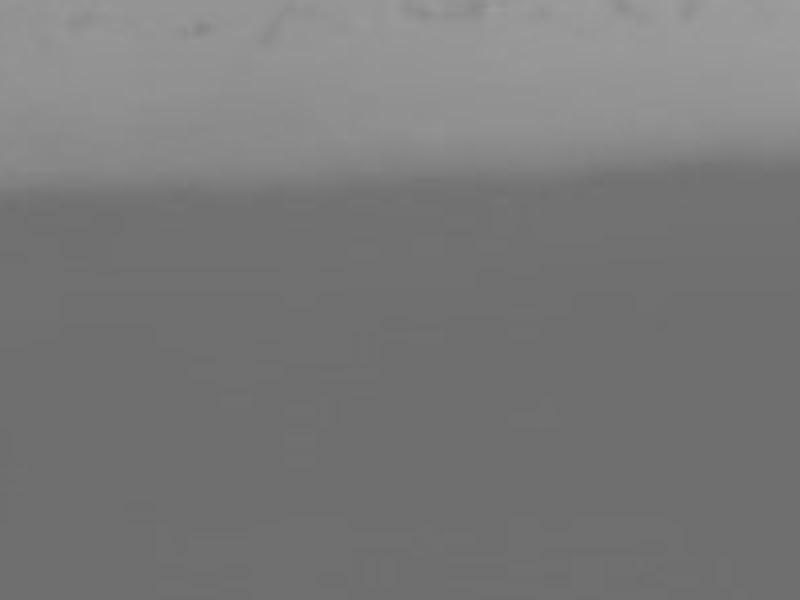defect: (65, 1, 116, 31), (611, 1, 656, 30), (261, 2, 284, 51), (437, 2, 494, 20), (177, 17, 214, 40), (522, 1, 560, 17), (401, 3, 432, 18), (680, 1, 699, 25)
